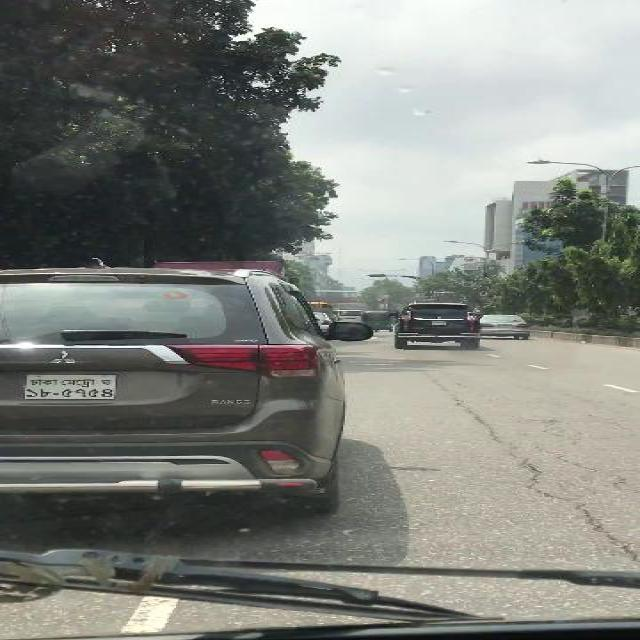car: (0, 253, 375, 516), (388, 299, 482, 350), (478, 314, 532, 340)
motorcycle: (363, 309, 391, 333)
truck: (334, 309, 361, 323)
